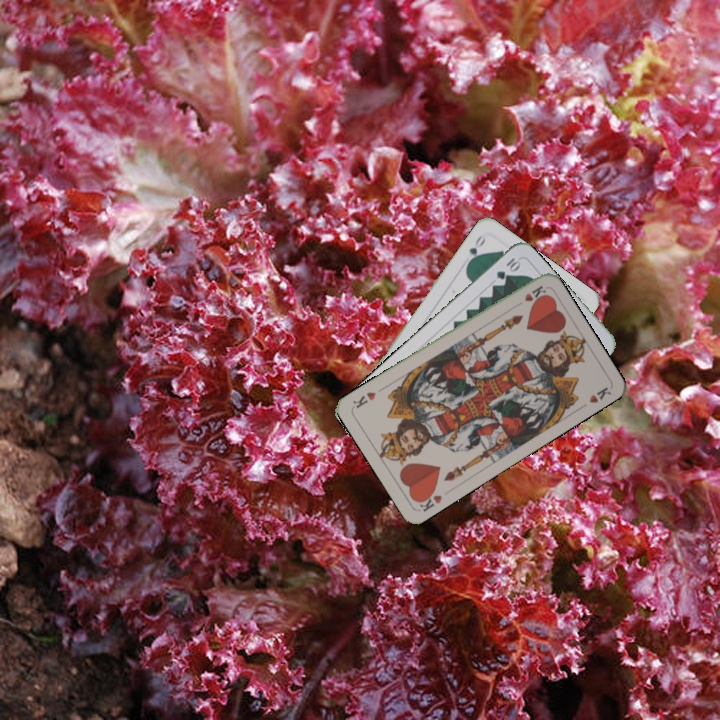G10: (492, 254, 523, 282)
GO: (463, 231, 488, 268)
HK: (413, 486, 444, 515), (520, 281, 549, 304)
